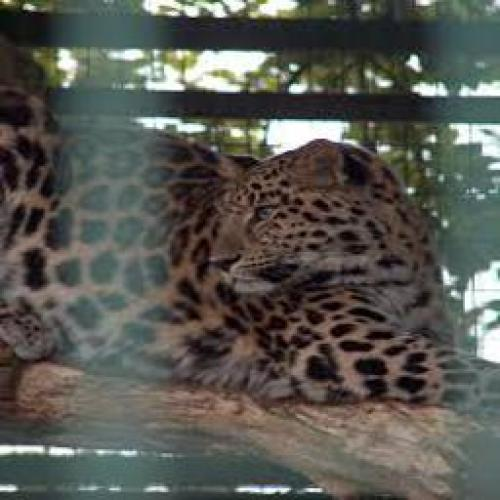amur_leopard-endangered: (0, 48, 493, 412)
